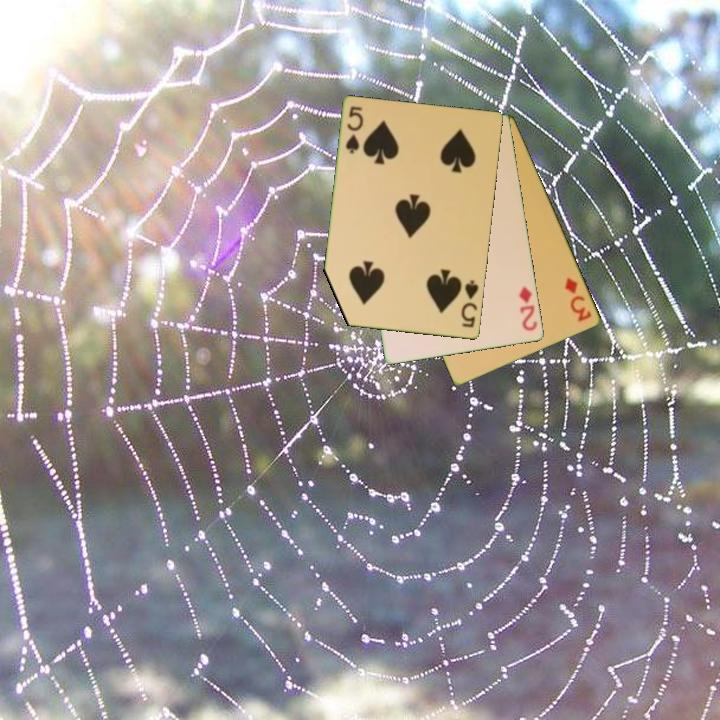2d: (516, 283, 540, 334)
3d: (561, 274, 595, 325)
5s: (458, 277, 482, 331), (342, 103, 366, 157)
